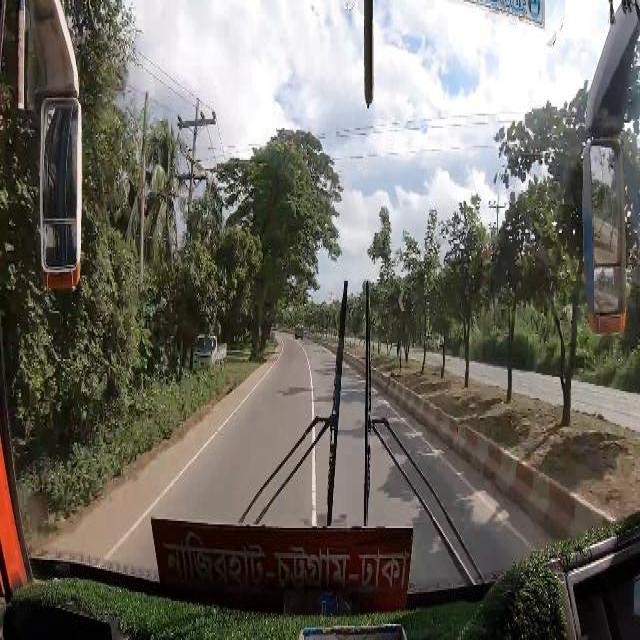pickup: (194, 333, 226, 367)
